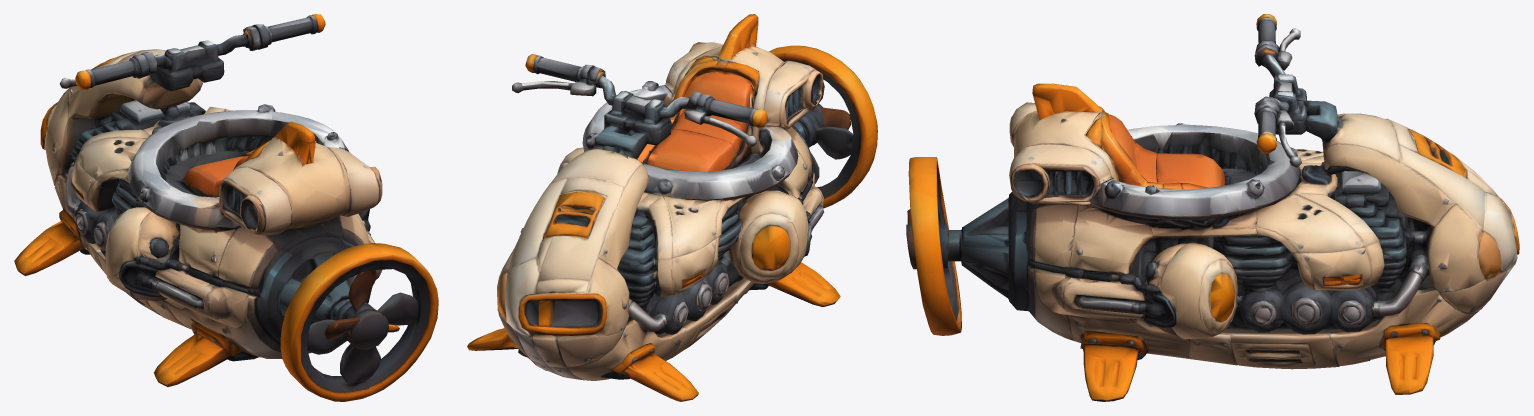
3 renders of one model, left to right at view 1: azimuth 30°, elevation 25°; view 2: azimuth 150°, elevation 25°; view 3: azimuth 270°, elevation 25°, orthographic. The views are drawn at different scales.
Visible parts, largest first — view 1: LOD0; view 2: LOD0; view 3: LOD0.
Boxes of the visible parts, bbox=[...] form: LOD0: bbox=[14, 14, 438, 401]; LOD0: bbox=[467, 14, 877, 401]; LOD0: bbox=[906, 14, 1519, 401].
Size of what is drawn, in the model's own units: 1.3 by 1.33 by 2.6.
